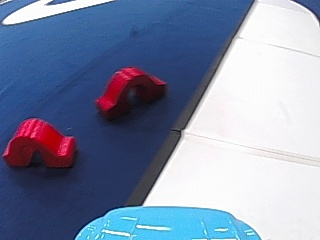bridge: (1, 114, 81, 170), (92, 64, 167, 121)
